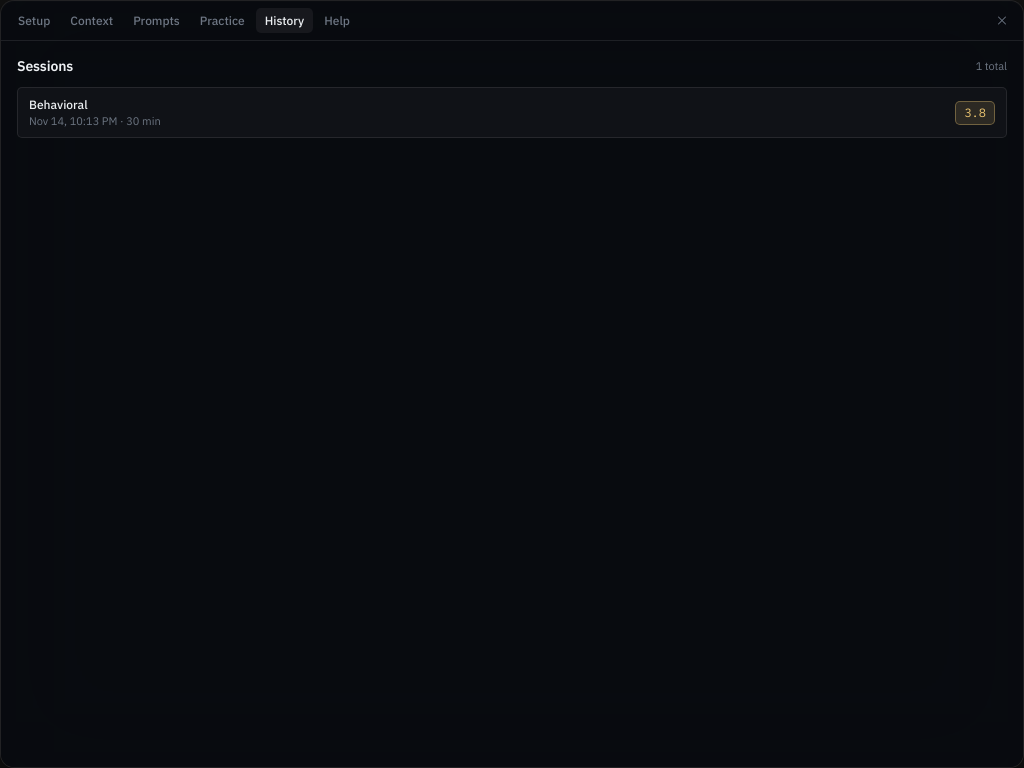
Test: History tab › clicking a row loads and renders the full session detail
The image size is (1024, 768).
Click the button with class "session-row": (58, 104) [17,87,1007,138]
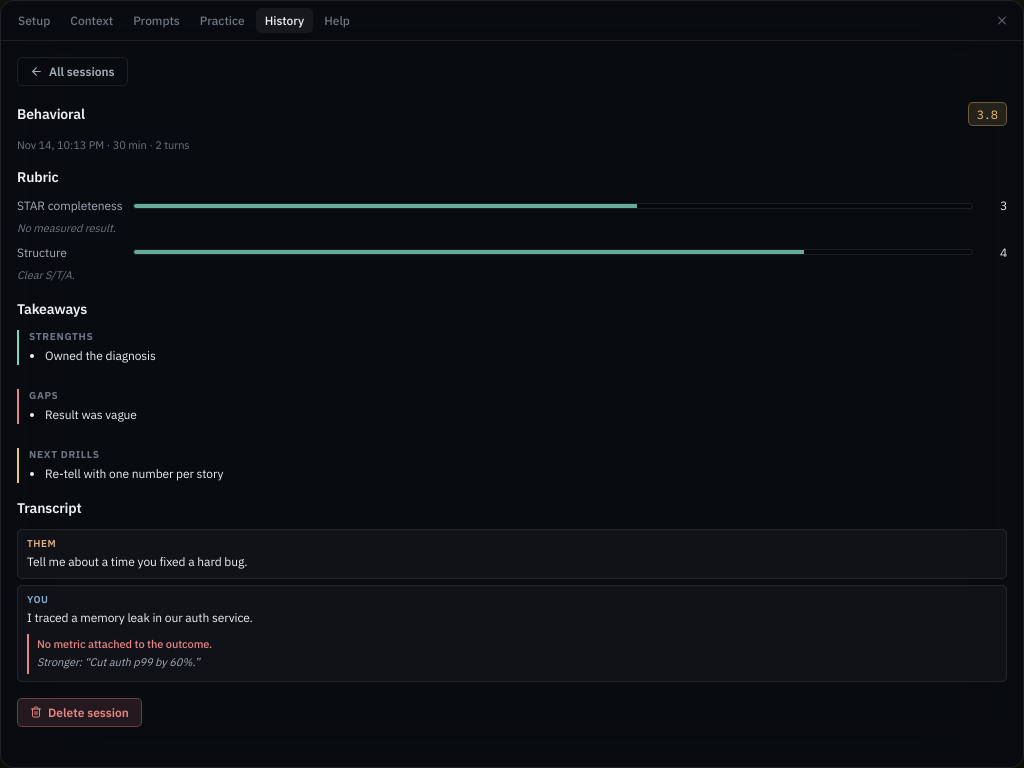
Now the heading "Rubric" is shown, box [17,168,59,186]
Now the text "STAR completeness" is shown, box [17,198,125,213]
Now the text "No metric attached to the outcome." is shown, box [37,637,212,651]
